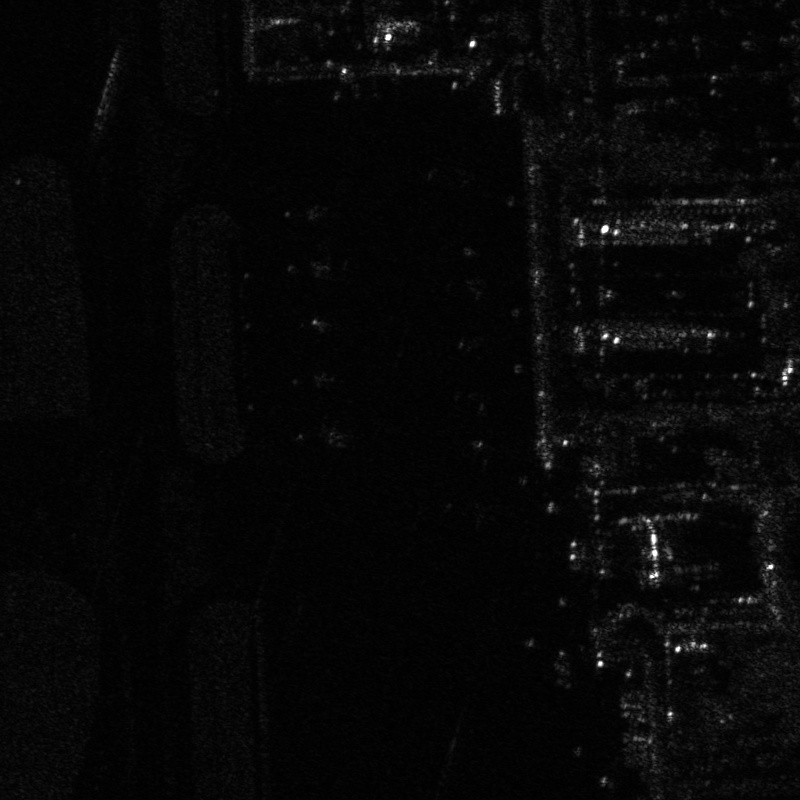ARJ21: (283, 249, 340, 286), (297, 304, 348, 341)
other: (285, 359, 345, 399), (291, 414, 354, 452), (282, 192, 336, 230)
